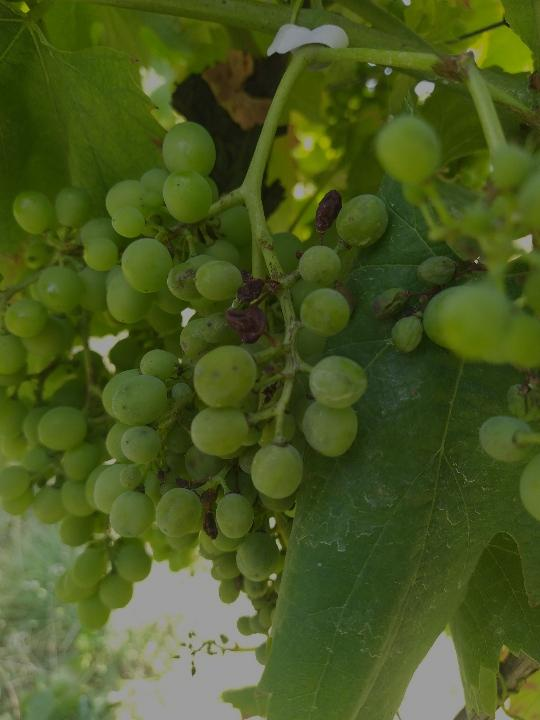grape: (99, 118, 390, 587)
